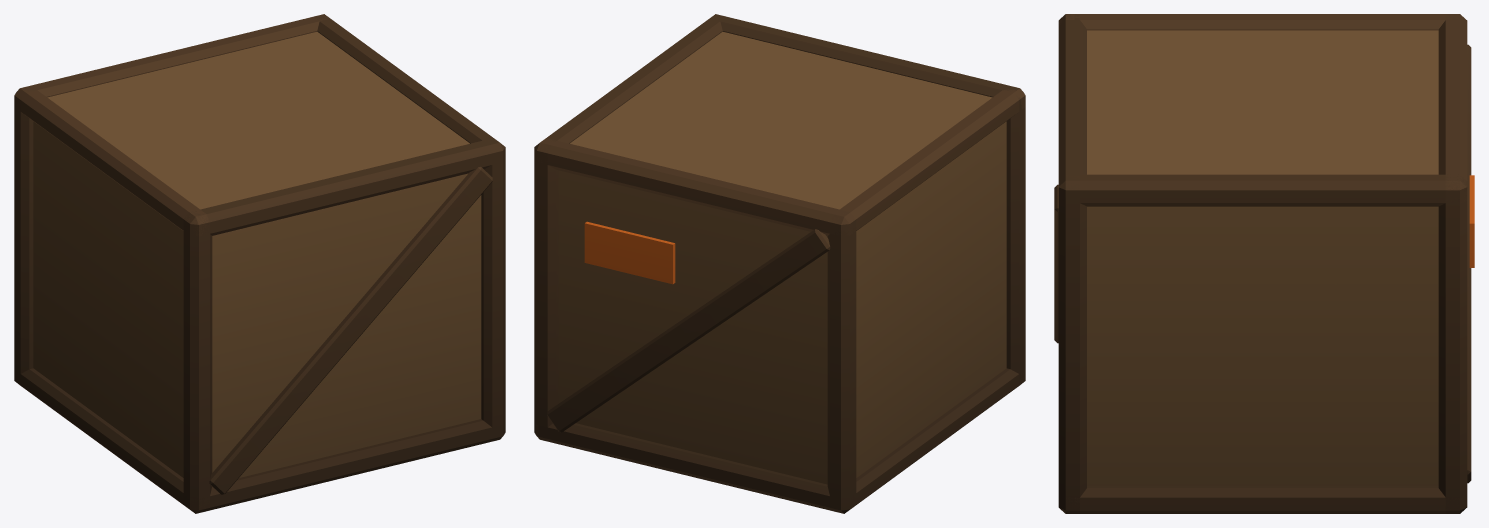
File: crate_wood.glb
The picture shows the model from 3 angles, left to right: view 1: azimuth 30°, elevation 25°; view 2: azimuth 150°, elevation 25°; view 3: azimuth 270°, elevation 25°; orthographic projection. The views are drawn at different scales.
Visible parts, largest first — view 1: crate_wood; view 2: crate_wood; view 3: crate_wood.
Part boxes in pixels (x1=…): crate_wood: x1=14, y1=14, x2=505, y2=513; crate_wood: x1=534, y1=14, x2=1025, y2=513; crate_wood: x1=1054, y1=14, x2=1474, y2=513.
Size of the model in its own units: 1 by 0.9 by 1.03.
